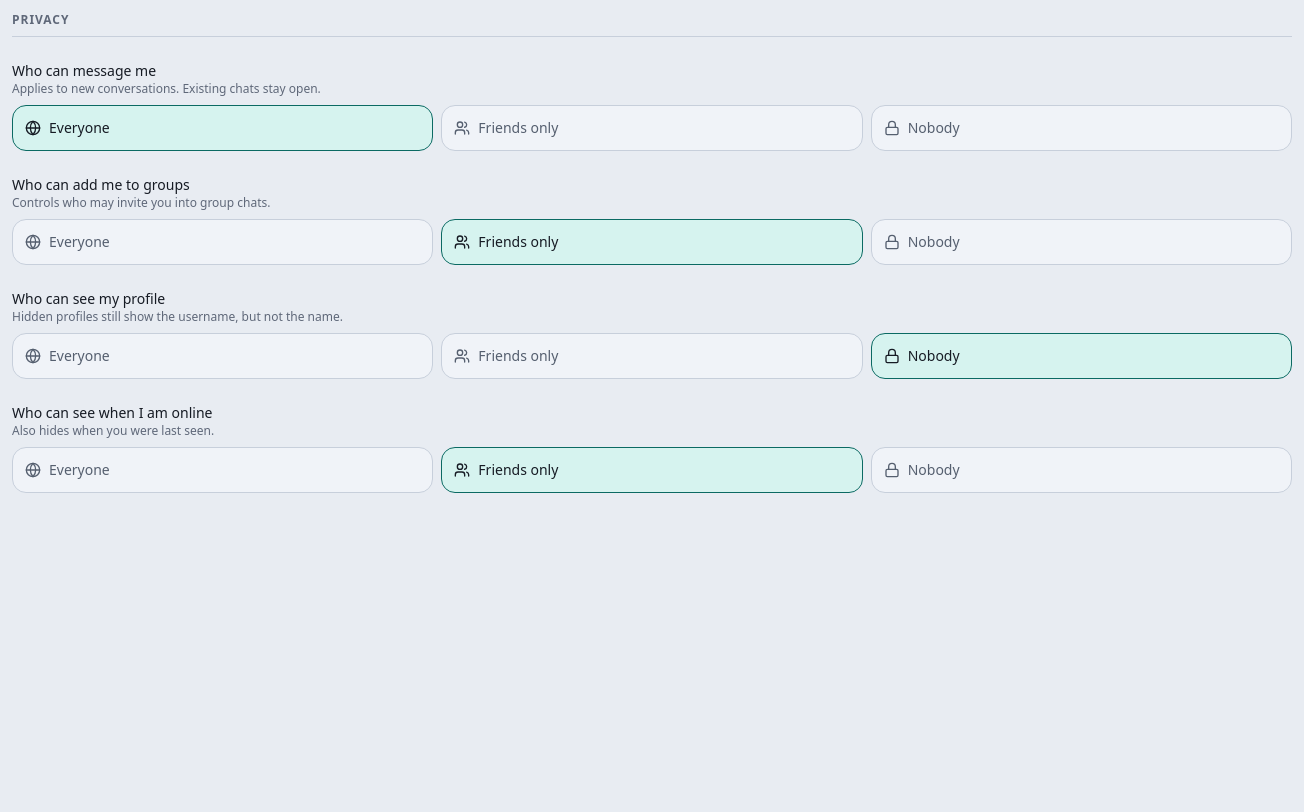
PrivacySettings › reports a failed save
Expected: the text "Who can see my profile" is shown, [12,289,165,308]
Step 1. Click the 3rd button "Nobody" → (934, 356), box [871,333,1292,379]
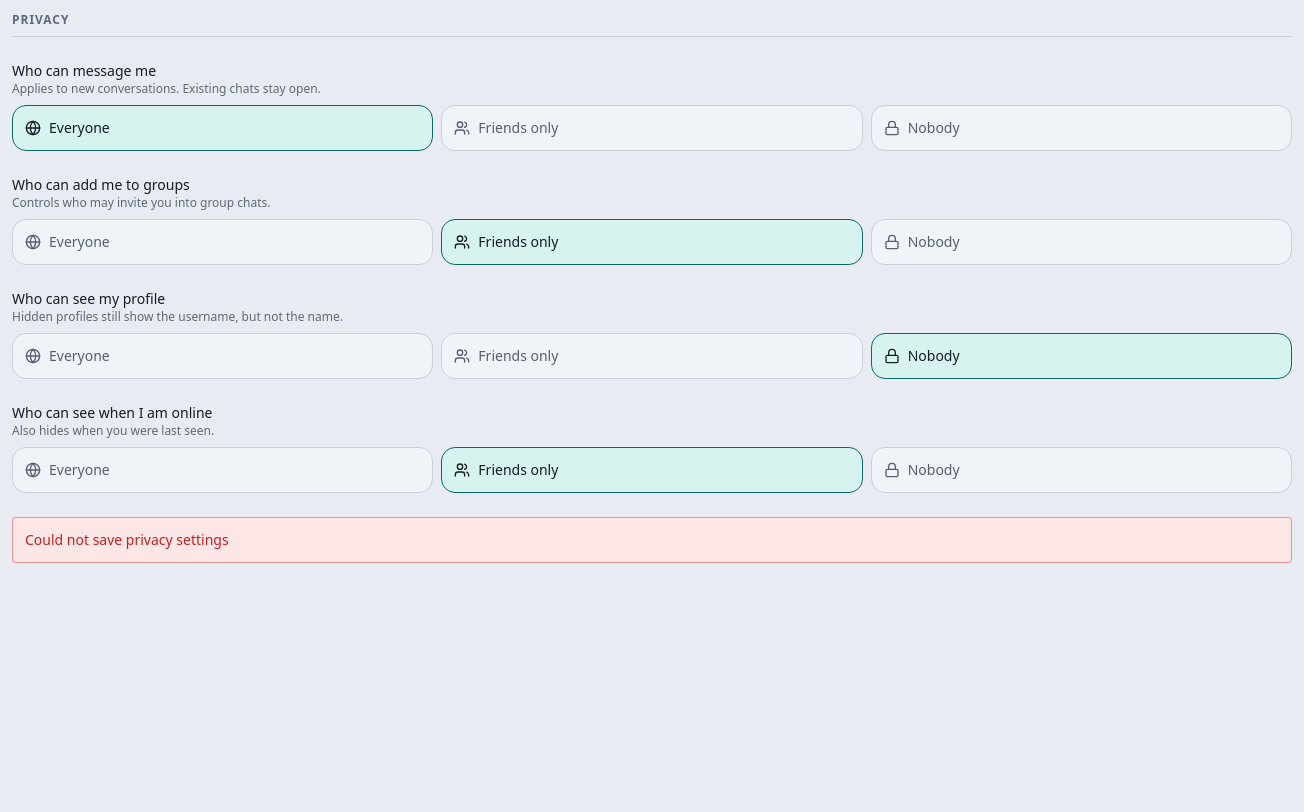
Expected: the text "Could not save privacy settings" is shown, [12,517,1292,563]
